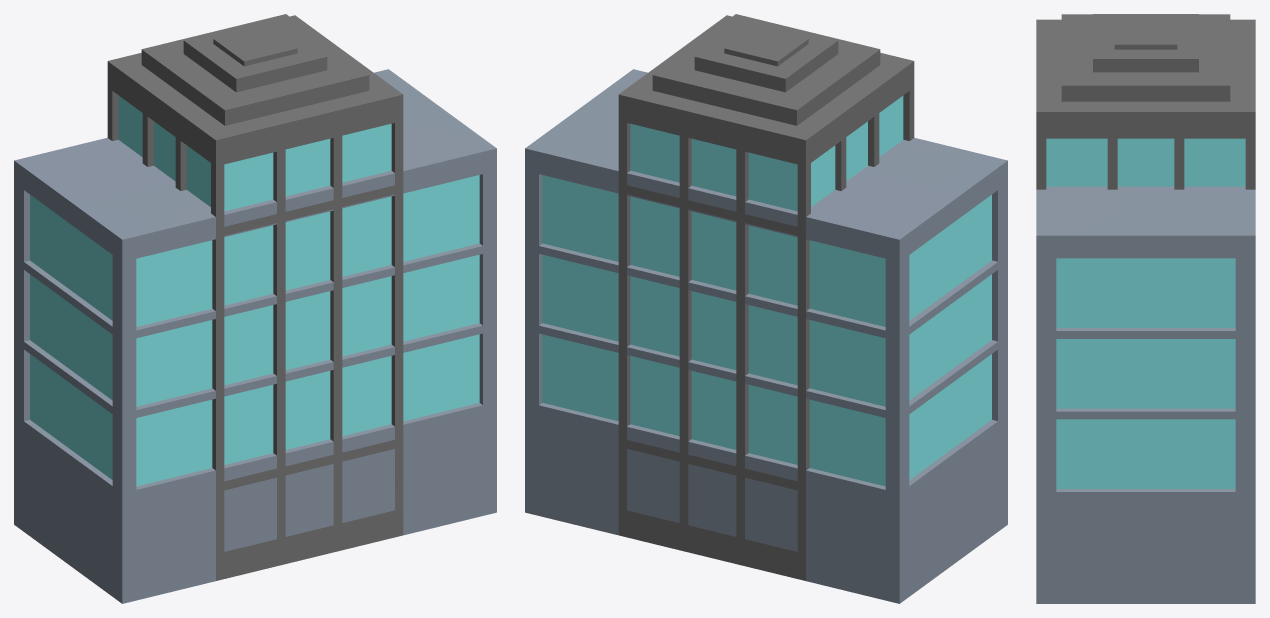
Rendered from building.fbx.
3 renders of one model, left to right at view 1: azimuth 30°, elevation 25°; view 2: azimuth 150°, elevation 25°; view 3: azimuth 270°, elevation 25°, orthographic.
Visible parts, largest first — view 1: building_02, building_01; view 2: building_02, building_01; view 3: building_02, building_01.
Boxes of the visible parts, box(x1,y1,x2,y2) form: building_02: box(14, 69, 496, 603); building_01: box(107, 14, 403, 580); building_02: box(525, 69, 1007, 603); building_01: box(618, 14, 914, 580); building_02: box(1036, 186, 1255, 603); building_01: box(1036, 14, 1255, 189).
Bounding box in the file's own units: 3420 × 4153 × 1713.
